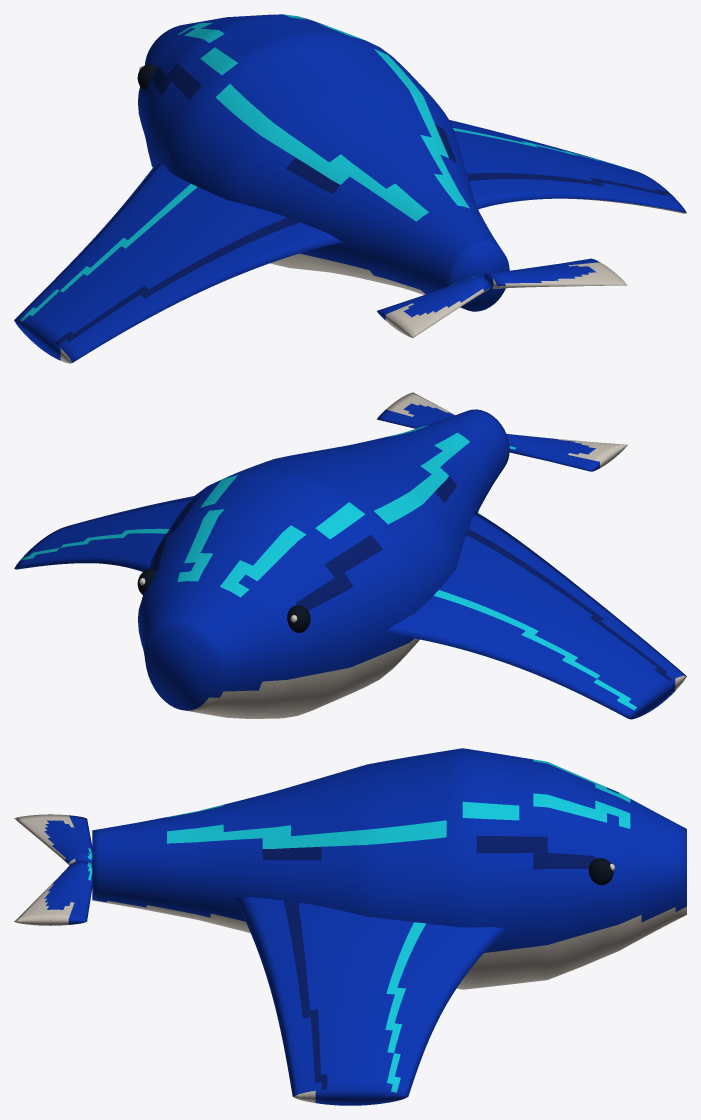
The picture shows the model from 3 angles, top to bottom: view 1: azimuth 30°, elevation 25°; view 2: azimuth 150°, elevation 25°; view 3: azimuth 270°, elevation 25°; orthographic projection.
Bounding box in the file's own units: 2.06 × 0.6853 × 1.98.
